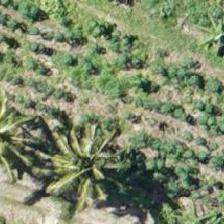coconut_tree: (47, 123, 137, 213)
